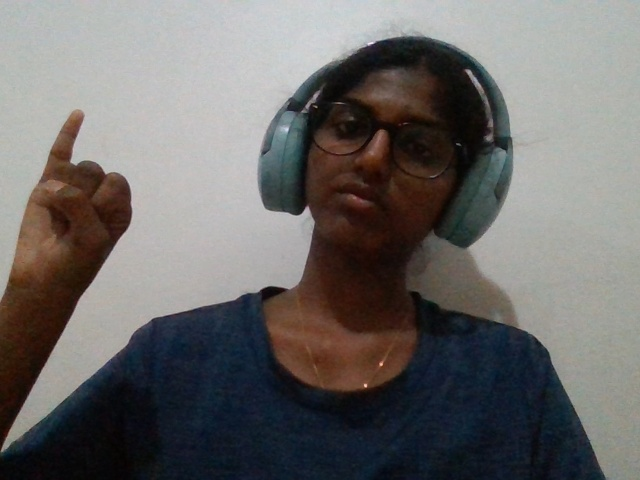I: (3, 98, 150, 344)
